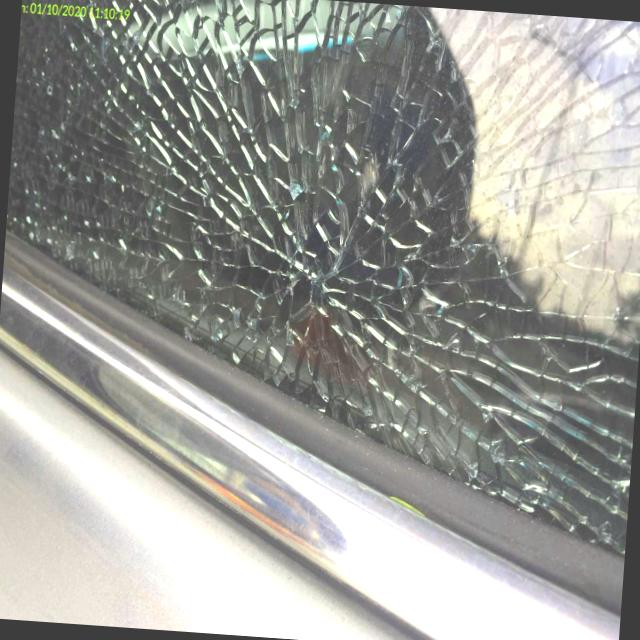Fissure: (0, 60, 264, 327)
